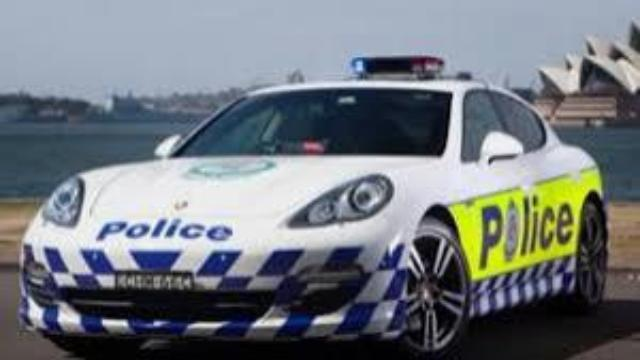police: (12, 55, 612, 360)
